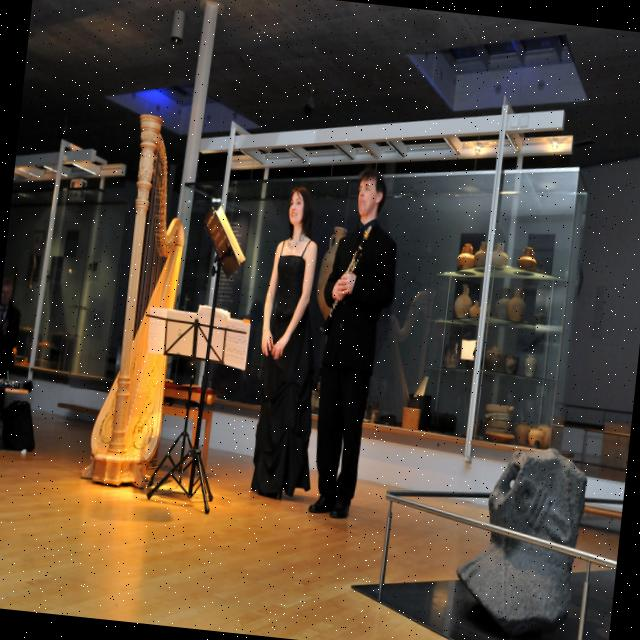clarinet: (318, 218, 375, 341)
harp: (78, 109, 200, 494)
